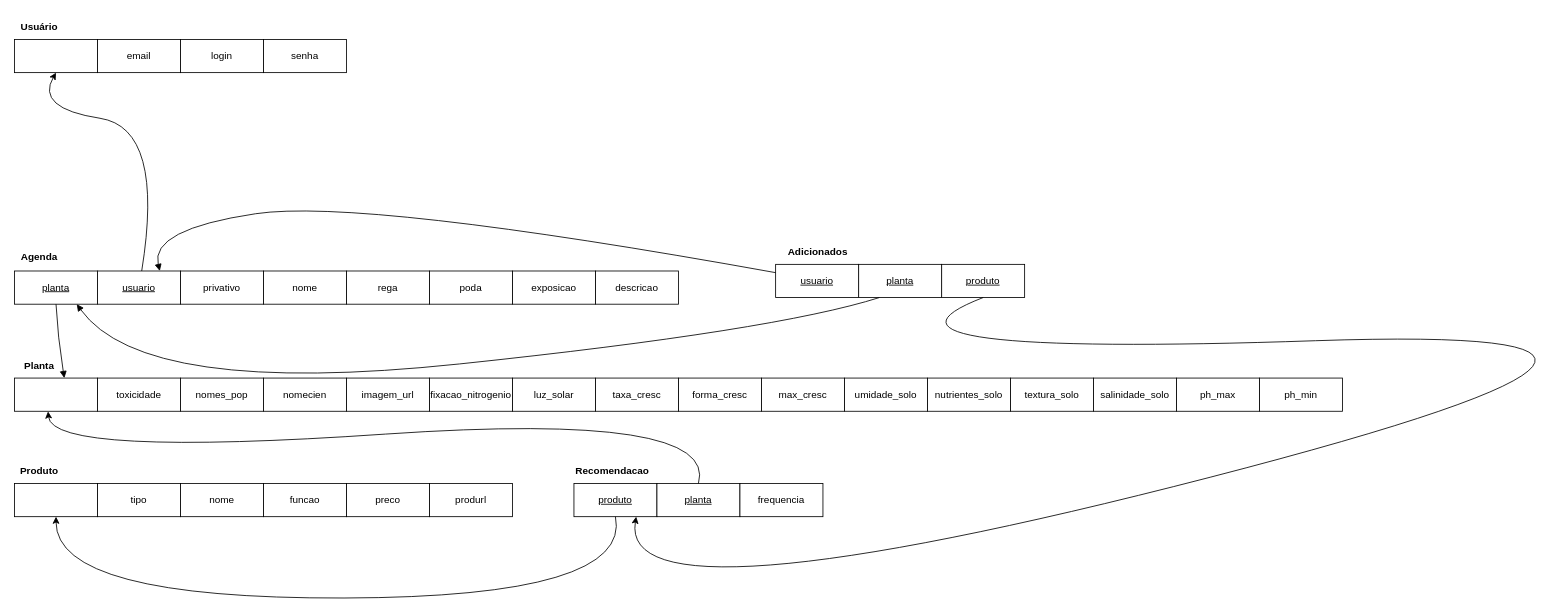
The diagram is 1550 pixels wide and 613 high, and some of its shapes have lost their labels. Here are the shapes that lost their labels. From the top down, the centre of each, then its label:
point 56,56: userId
point 56,394: slug
point 56,500: prodId
